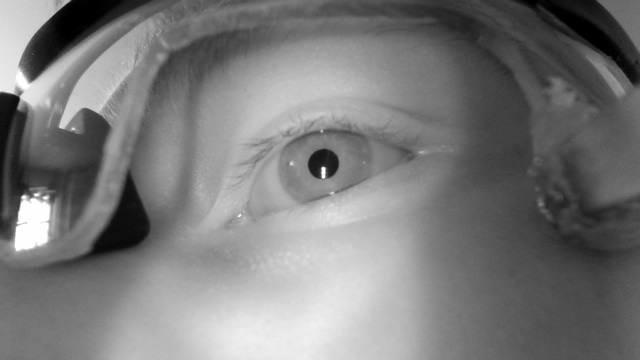pupil: (307, 148, 340, 180)
